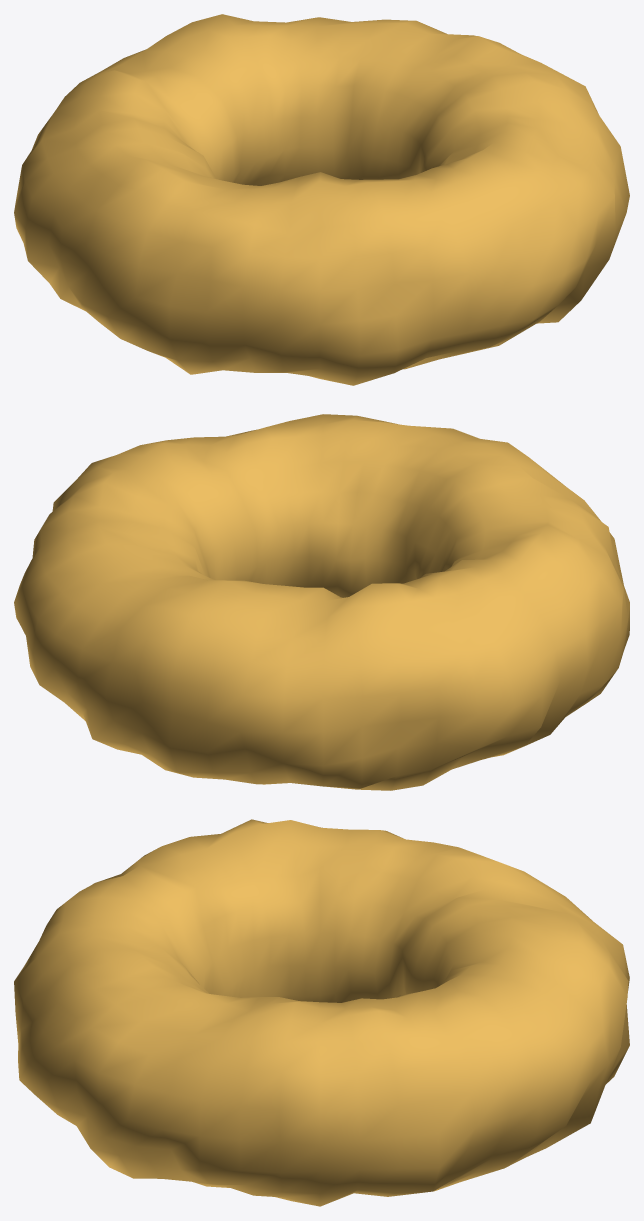
Rendered from items-cereal.glb.
3 renders of one model, top to bottom at view 1: azimuth 30°, elevation 25°; view 2: azimuth 150°, elevation 25°; view 3: azimuth 270°, elevation 25°, orthographic. The views are drawn at different scales.
Visible parts, largest first — view 1: Cereal__Ring; view 2: Cereal__Ring; view 3: Cereal__Ring.
Boxes of the visible parts, x1,y1,x2,y2 form: Cereal__Ring: (14,14,629,385); Cereal__Ring: (14,414,629,790); Cereal__Ring: (14,819,629,1206).
Size of the model in its own units: 4.29 by 1.49 by 4.25.
